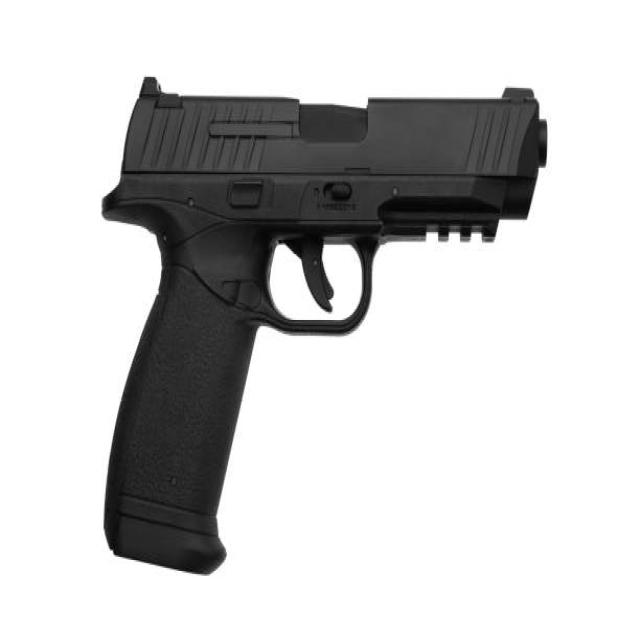pistol: (87, 65, 550, 596)
